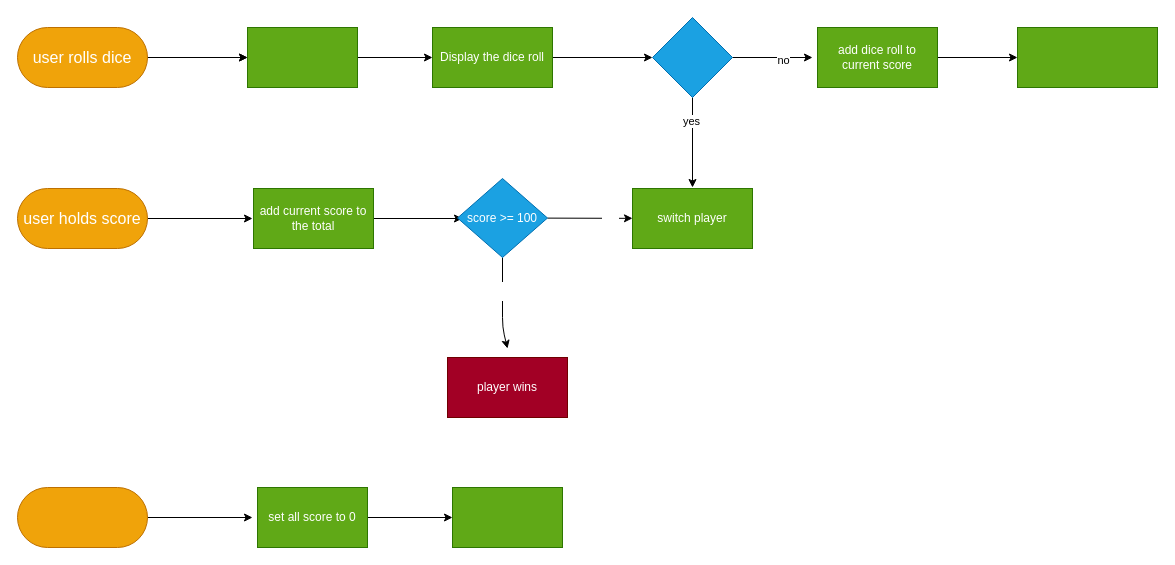
Some shapes in this 1175 by 565 pixel diagram are drawn without their labels. Here are the shapes that lost their labels. From the top down, the box of each, then its label:
(246, 26, 358, 88): generate random dice roll
(652, 16, 732, 98): is it 1 ?
(1016, 26, 1158, 88): display the new score
(16, 486, 148, 548): user reset the game
(452, 486, 562, 548): set player 1 as default
